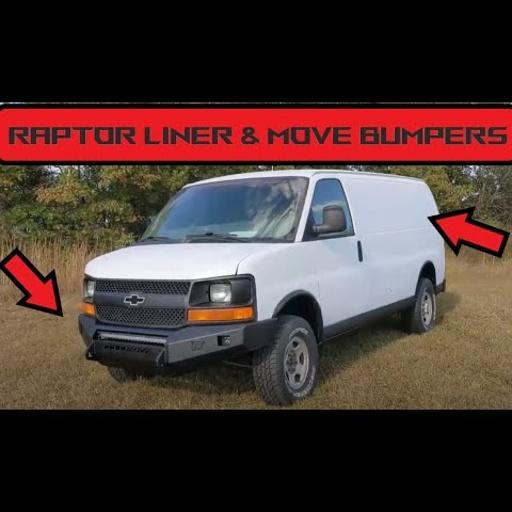van: (79, 170, 444, 403)
